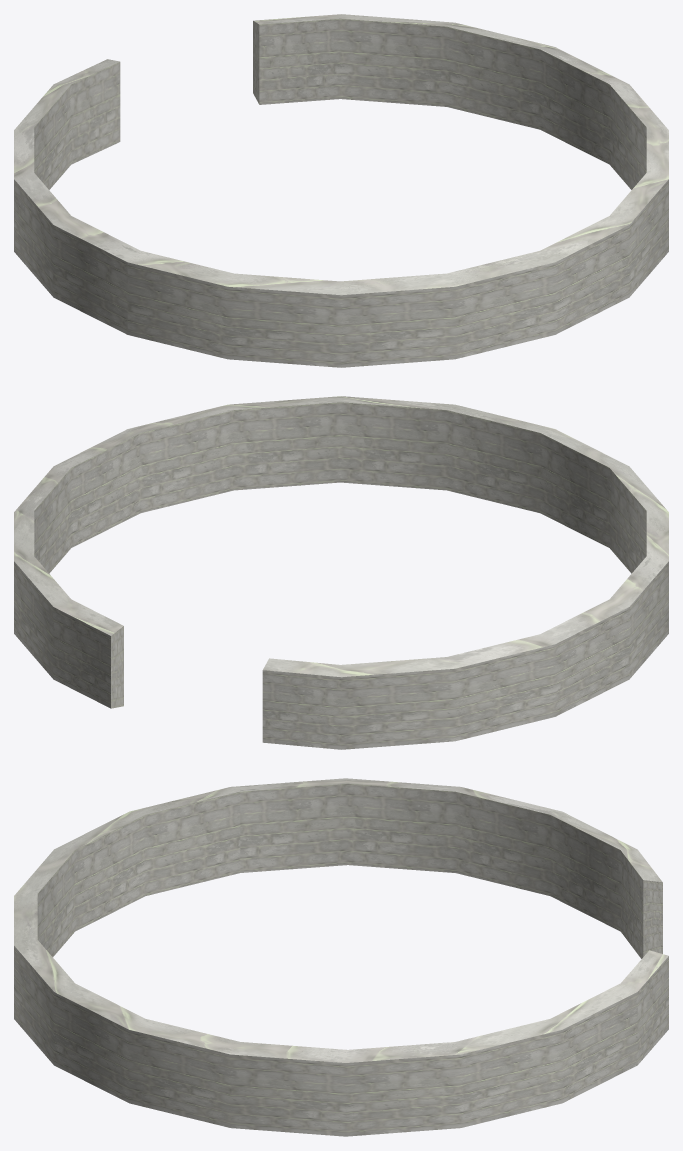
The model's file is 원형벽돌.fbx.
3 views of the same model, one above another, from view 1: azimuth 30°, elevation 25°; view 2: azimuth 150°, elevation 25°; view 3: azimuth 270°, elevation 25° (orthographic).
Visible parts, largest first — view 1: 원형벽돌; view 2: 원형벽돌; view 3: 원형벽돌.
Part boxes in pixels (bbox=[...]): 원형벽돌: bbox=[14, 14, 668, 367]; 원형벽돌: bbox=[14, 396, 668, 749]; 원형벽돌: bbox=[14, 778, 668, 1136].
Bounding box in the file's own units: 1738 × 232 × 1689.
